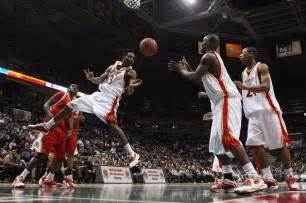basketball: (138, 37, 159, 57)
